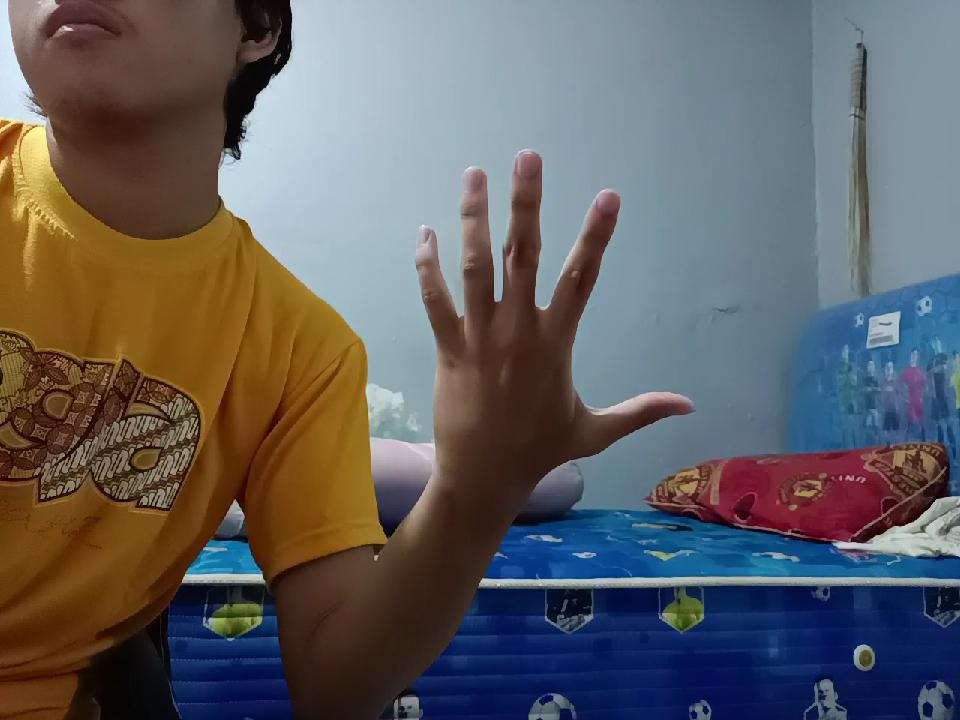paper: (411, 148, 662, 496)
